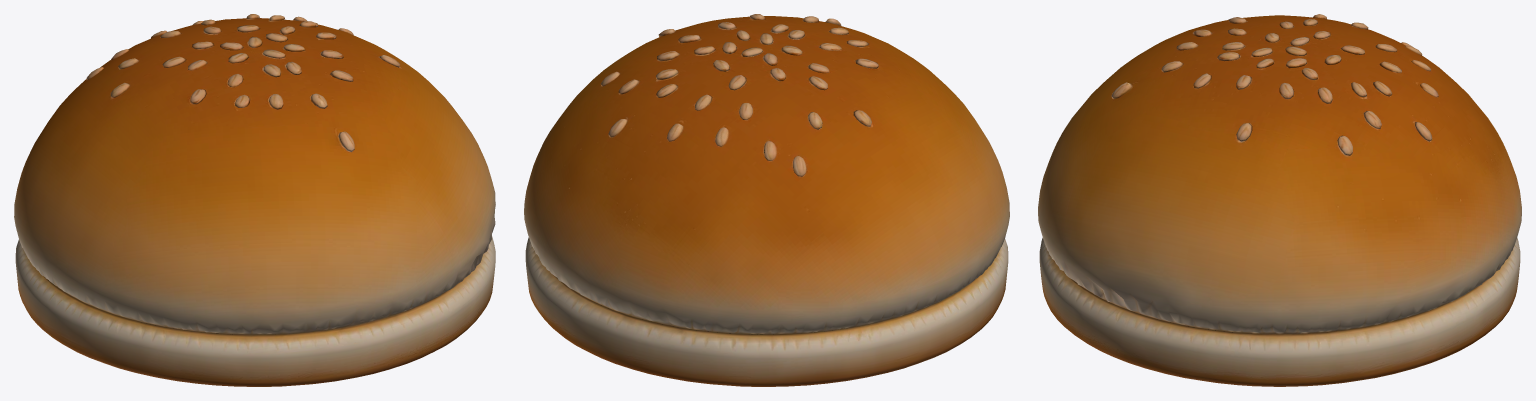
The model's file is top-bun.glb.
The picture shows the model from 3 angles, left to right: view 1: azimuth 30°, elevation 25°; view 2: azimuth 150°, elevation 25°; view 3: azimuth 270°, elevation 25°; orthographic projection.
Parts seen in each view (by area): view 1: material; view 2: material; view 3: material.
Part boxes in pixels (x1,y1,x2,y2): material: (14,14,495,386); material: (524,14,1009,386); material: (1038,14,1521,386).
Bounding box in the file's own units: 1.9 × 1.06 × 1.9.
Materials: 1 (1 with a texture image).
